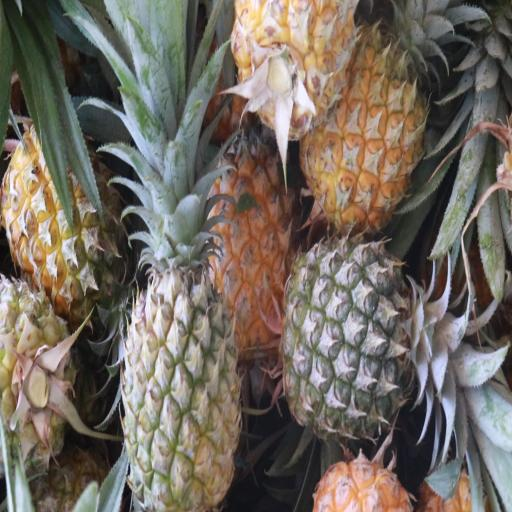------------------------------: (5, 118, 126, 306), (0, 279, 74, 471)
Pineapple - v8 v1: (300, 34, 430, 226), (208, 123, 296, 350), (233, 0, 353, 133)
